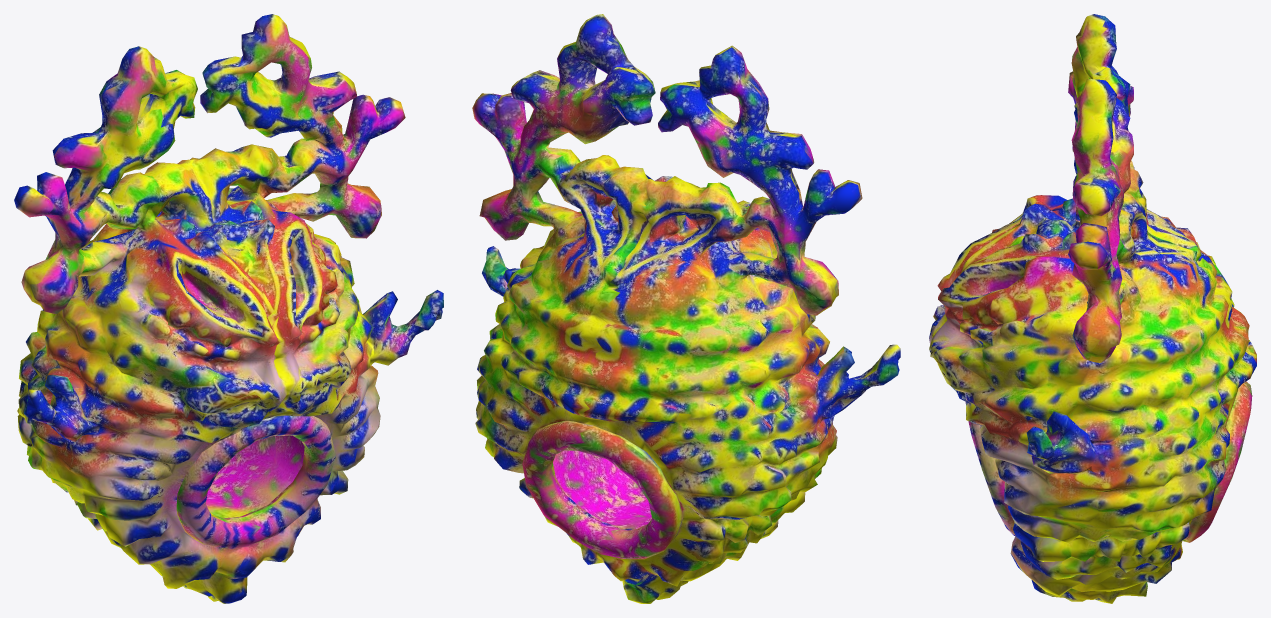
File: shr-mouth-arch.glb
3 views of the same model, side by side, from view 1: azimuth 30°, elevation 25°; view 2: azimuth 150°, elevation 25°; view 3: azimuth 270°, elevation 25° (orthographic).
Visible parts, largest first — view 1: geometry_0; view 2: geometry_0; view 3: geometry_0.
Part boxes in pixels (bbox=[...]): geometry_0: bbox=[14, 14, 443, 603]; geometry_0: bbox=[472, 14, 900, 603]; geometry_0: bbox=[929, 14, 1256, 603].
Bounding box in the file's own units: 0.7756 × 1 × 0.5352.
Materials: 1 (1 with a texture image).
